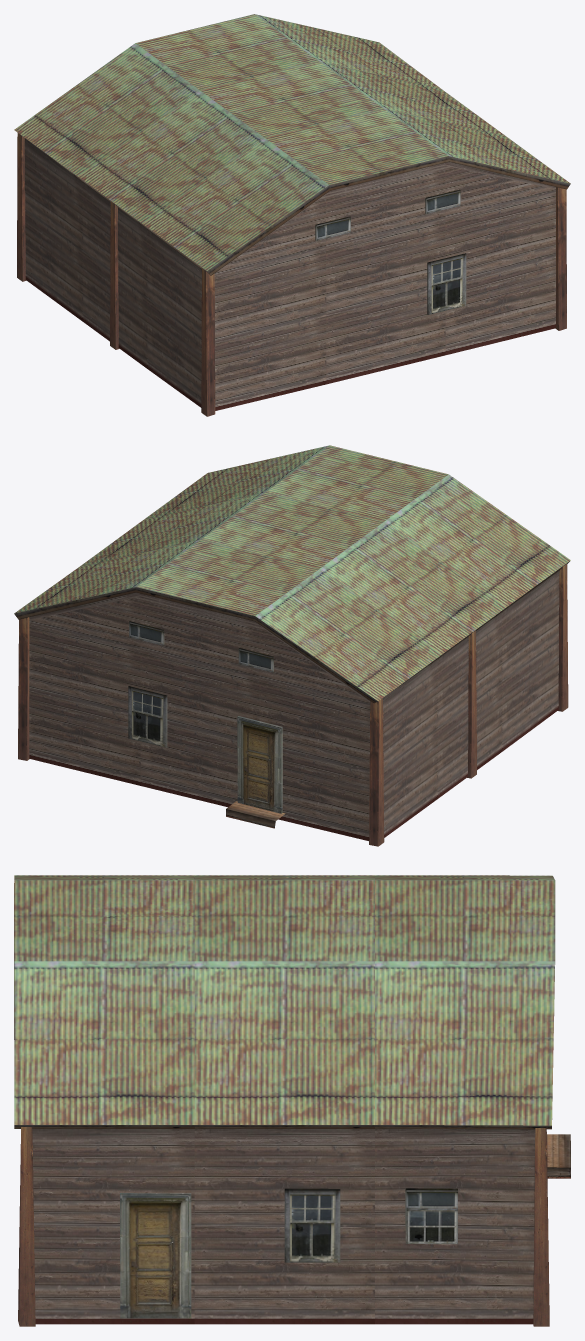
The model's file is house2.fbx.
3 views of the same model, one above another, from view 1: azimuth 30°, elevation 25°; view 2: azimuth 150°, elevation 25°; view 3: azimuth 270°, elevation 25° (orthographic). The views are drawn at different scales.
Parts seen in each view (by area): view 1: house02; view 2: house02; view 3: house02.
Boxes of the visible parts, x1,y1,x2,y2 form: house02: [14, 14, 570, 416]; house02: [14, 445, 570, 846]; house02: [14, 875, 570, 1326].
Size of the model in its own units: 1106 by 588 by 1049.
1 material, 1 textured.
